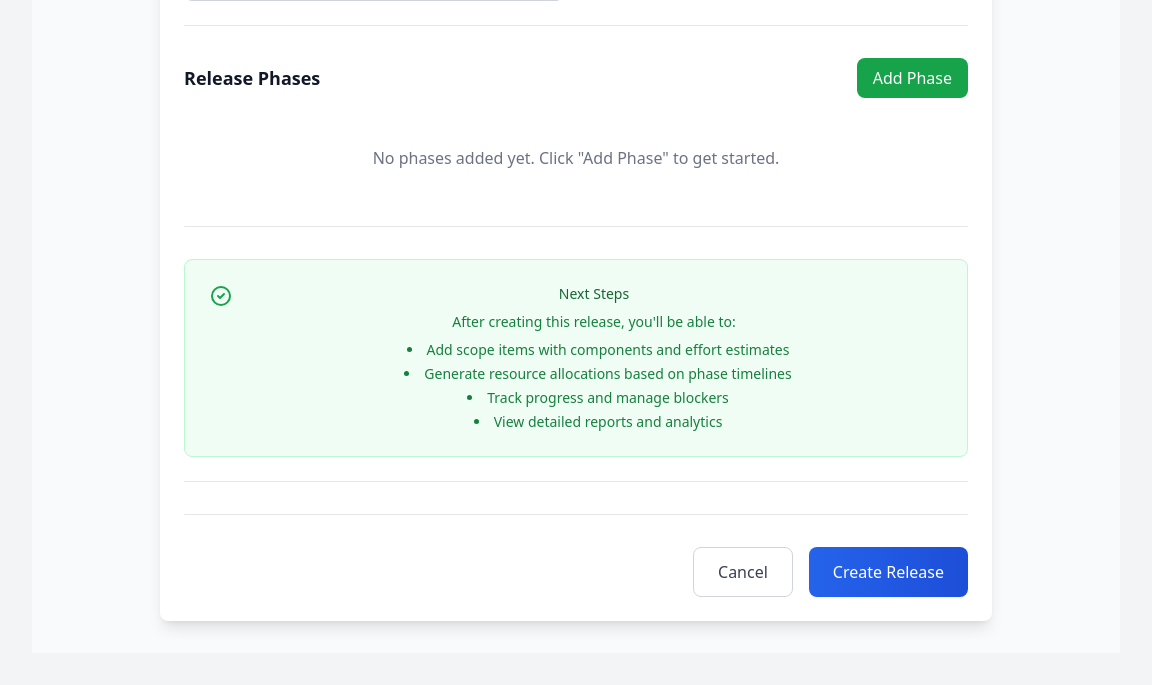
Test: ReleaseForm › Form Validation › should clear name error when user starts typing
(page scrolled)
# Submit to trigger validation
Click the button "Create Release": click(888, 572) x1=809 y1=547 x2=968 y2=597
(page scrolled)
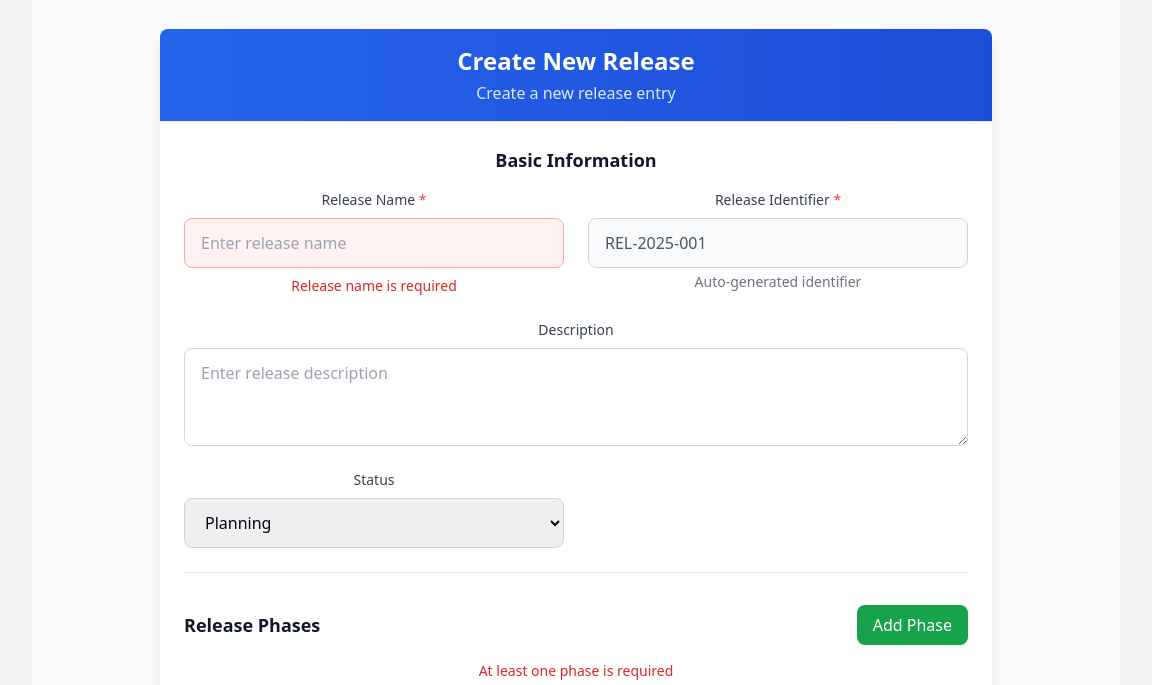
Now the text "Release name is required" is shown, box x1=291 y1=276 x2=457 y2=295
# Type in name field
In the field labelled "Release Name *": (374, 243) x1=184 y1=218 x2=564 y2=268, type "Test"
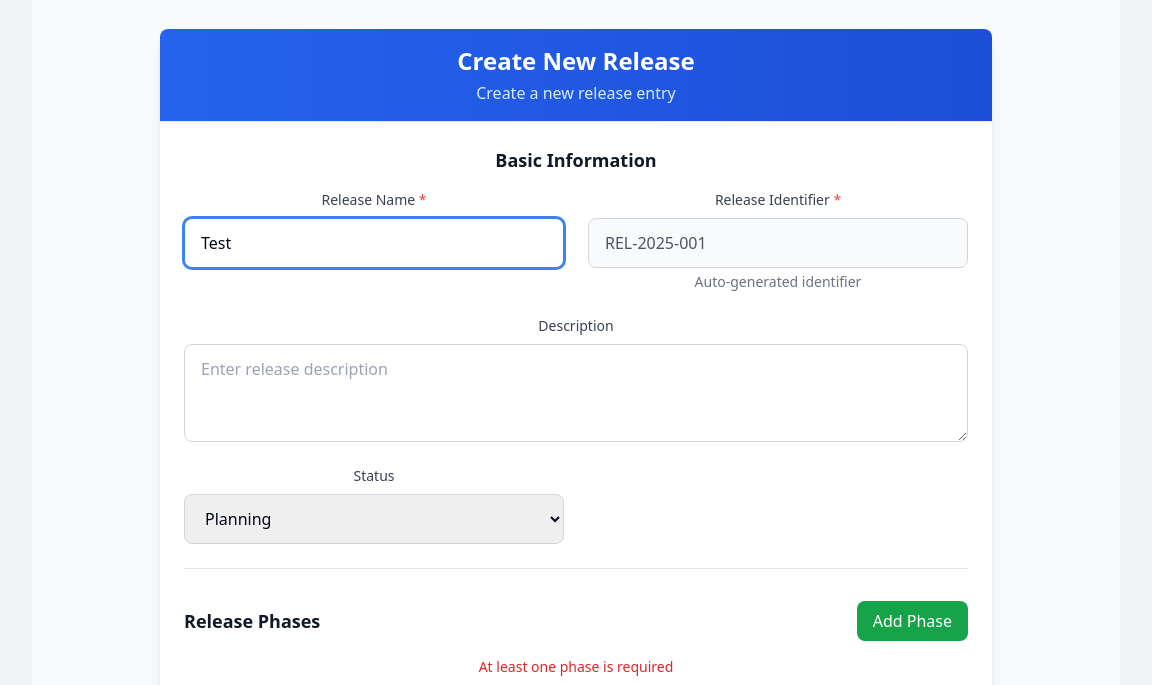
Now the text "Release name is required" is gone
